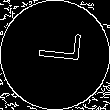L_W: (28, 37, 82, 73)
